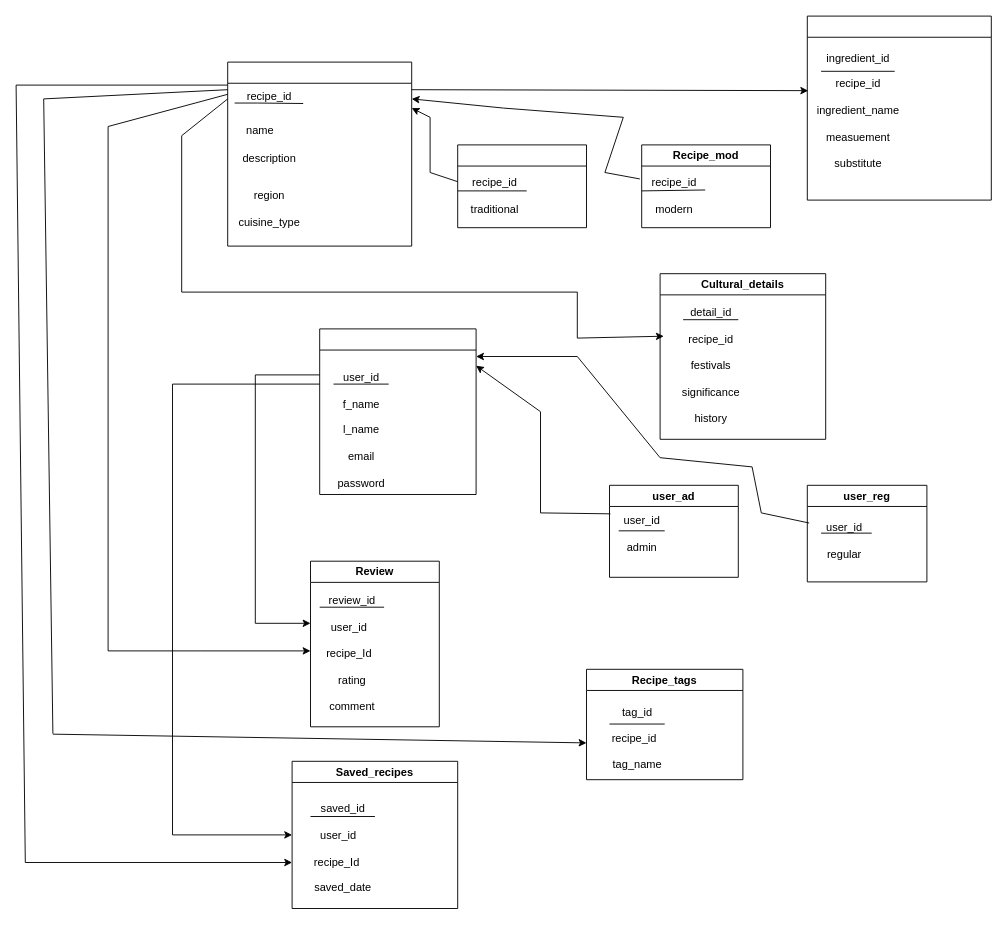
The diagram is 1007 pixels wide and 925 high, and some of its shapes have lost their labels. The shapes that lost their labels are listed below. From the top down, each one's box as (x1, y1, x2, y2) in pixels, then its label:
(806, 15, 991, 200): Ingredients
(227, 61, 412, 246): Recipes
(457, 144, 586, 228): Recipe_trad
(319, 328, 476, 494): Users
